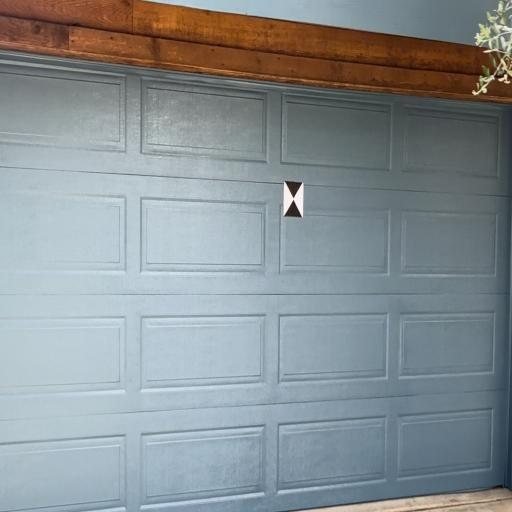target: (284, 181, 304, 216)
